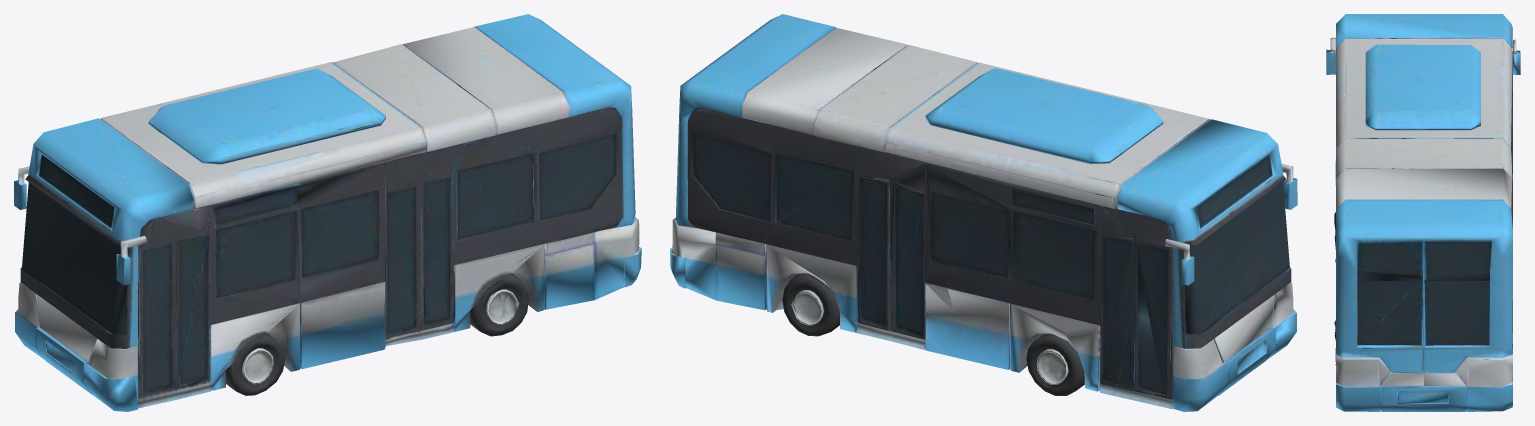
The model's file is bus.glb.
The picture shows the model from 3 angles, left to right: view 1: azimuth 30°, elevation 25°; view 2: azimuth 150°, elevation 25°; view 3: azimuth 270°, elevation 25°; orthographic projection. The views are drawn at different scales.
Parts seen in each view (by area): view 1: geometry_0; view 2: geometry_0; view 3: geometry_0.
Part boxes in pixels (bbox=[...]): geometry_0: bbox=[14, 14, 641, 411]; geometry_0: bbox=[670, 14, 1297, 411]; geometry_0: bbox=[1326, 14, 1520, 411].
Size of the model in its own units: 0.9575 by 0.4082 by 0.3384.
Materials: 1 (1 with a texture image).
